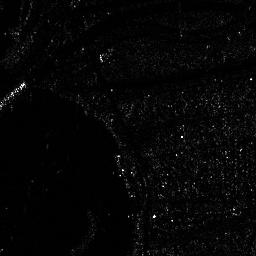ship: (1, 79, 28, 111)
